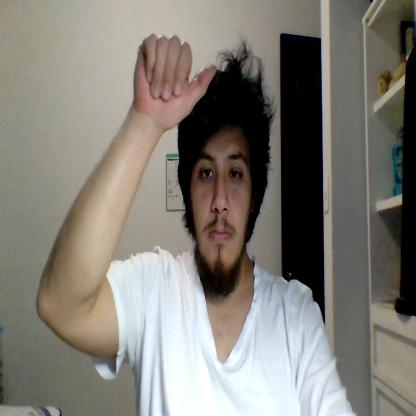A: (134, 34, 216, 132)
